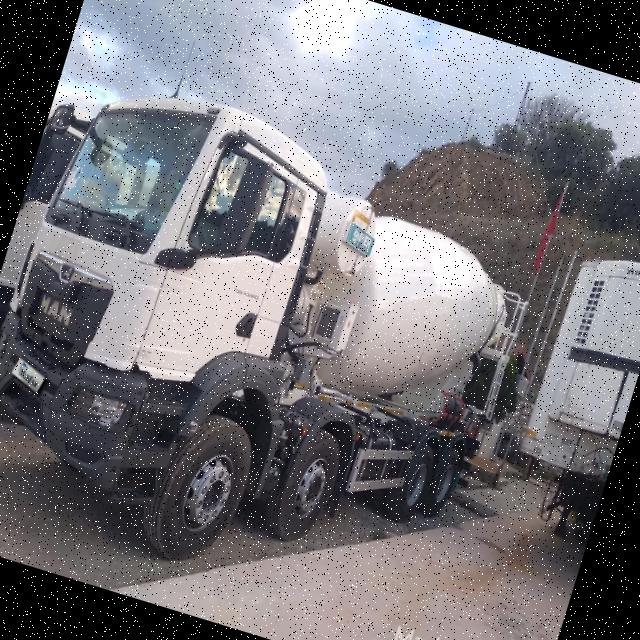Mixer Truck: (0, 60, 558, 638)
